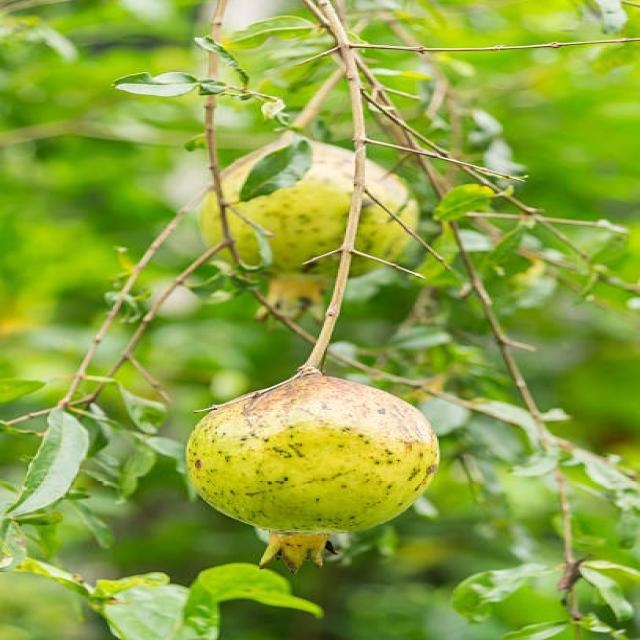Unripe: (183, 370, 444, 570)
